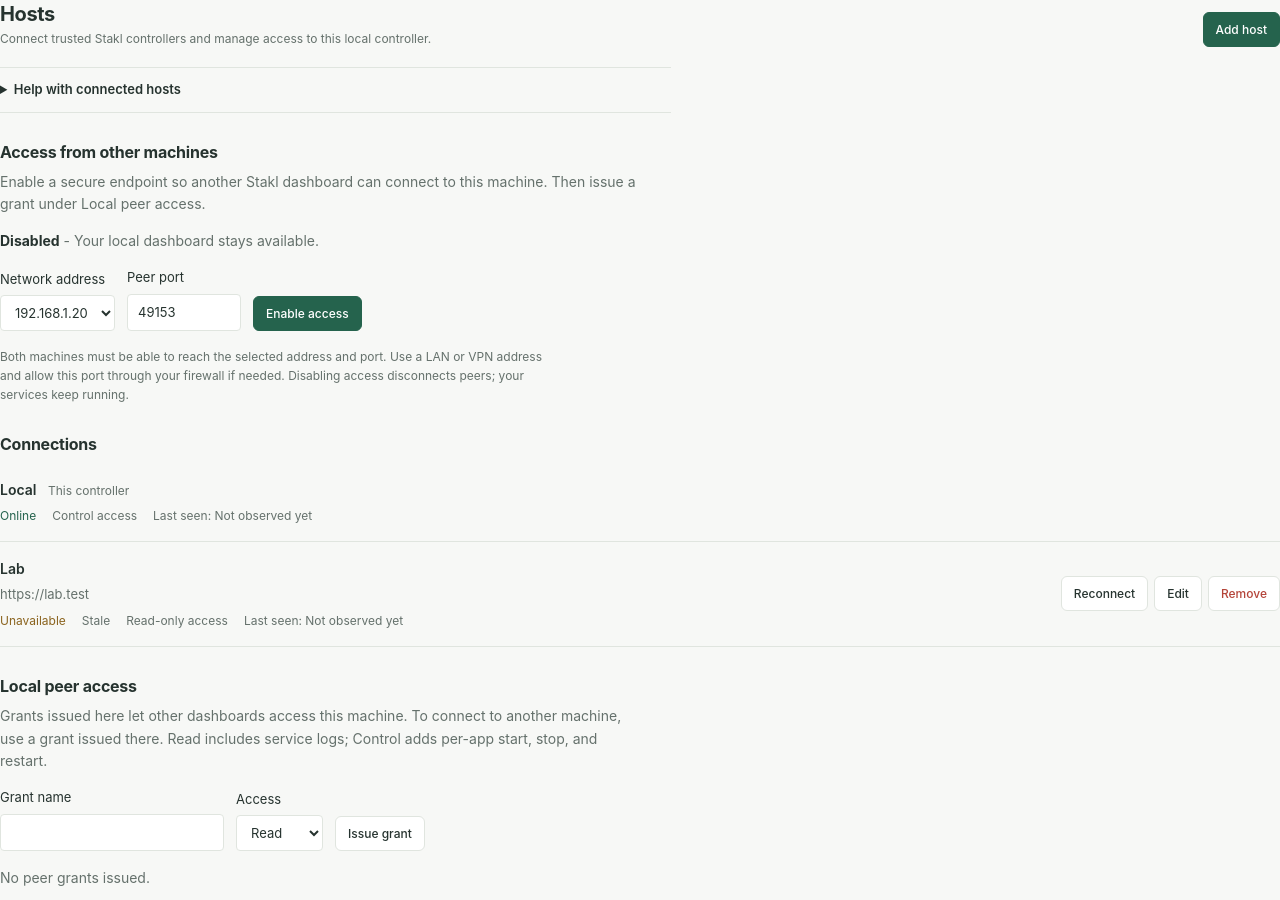
write-only connection credentials
Click the button with aria-label "Edit Lab" at (1178, 594), box [1154,576,1202,611]
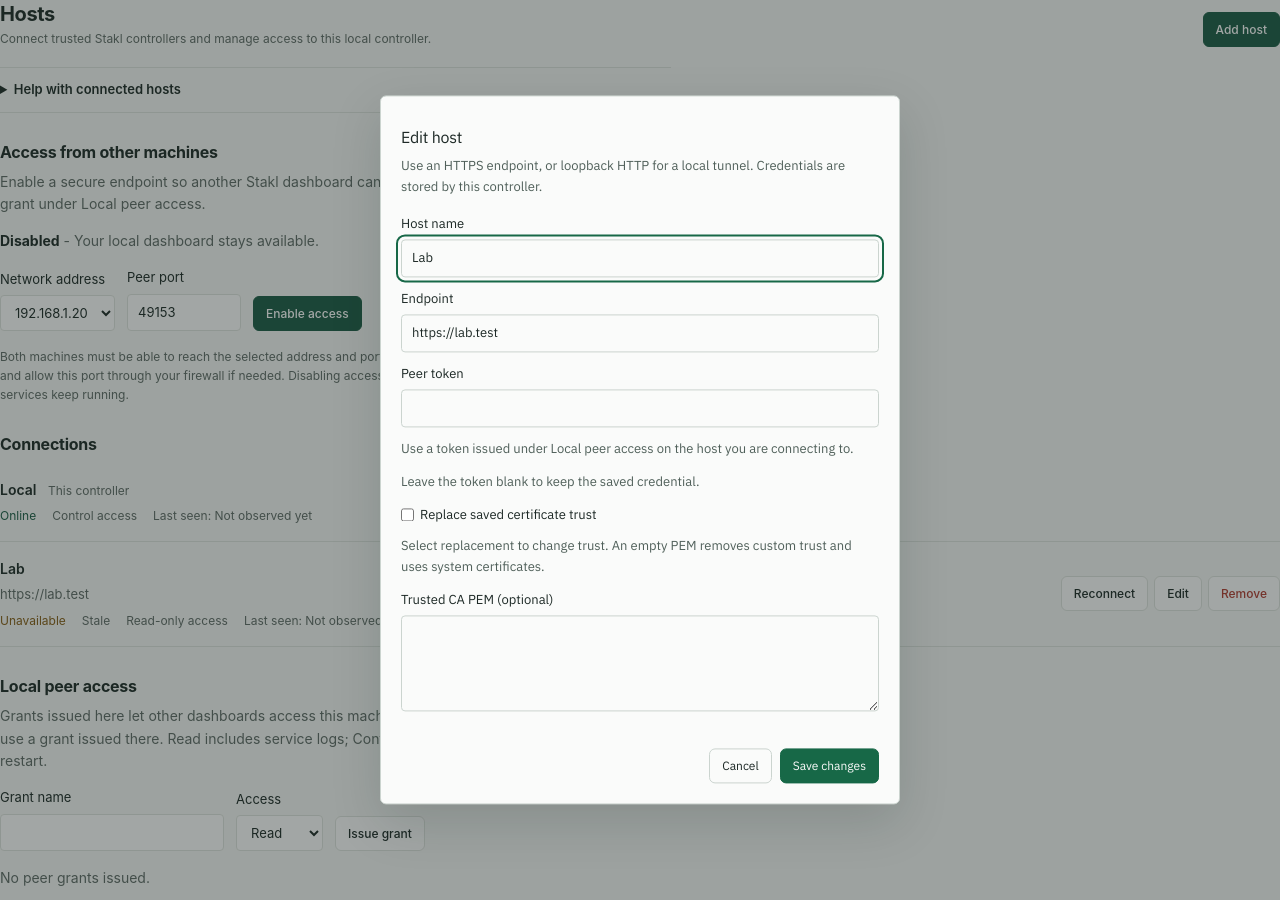
Expected: the password field labelled "Peer token" is empty, [401,390,879,427]
Now the text box labelled "Trusted CA PEM (optional)" is empty, box [401,616,879,712]
Replace the text in the field labelled "Host name" with "Renamed" at (640, 259), box [401,240,879,277]
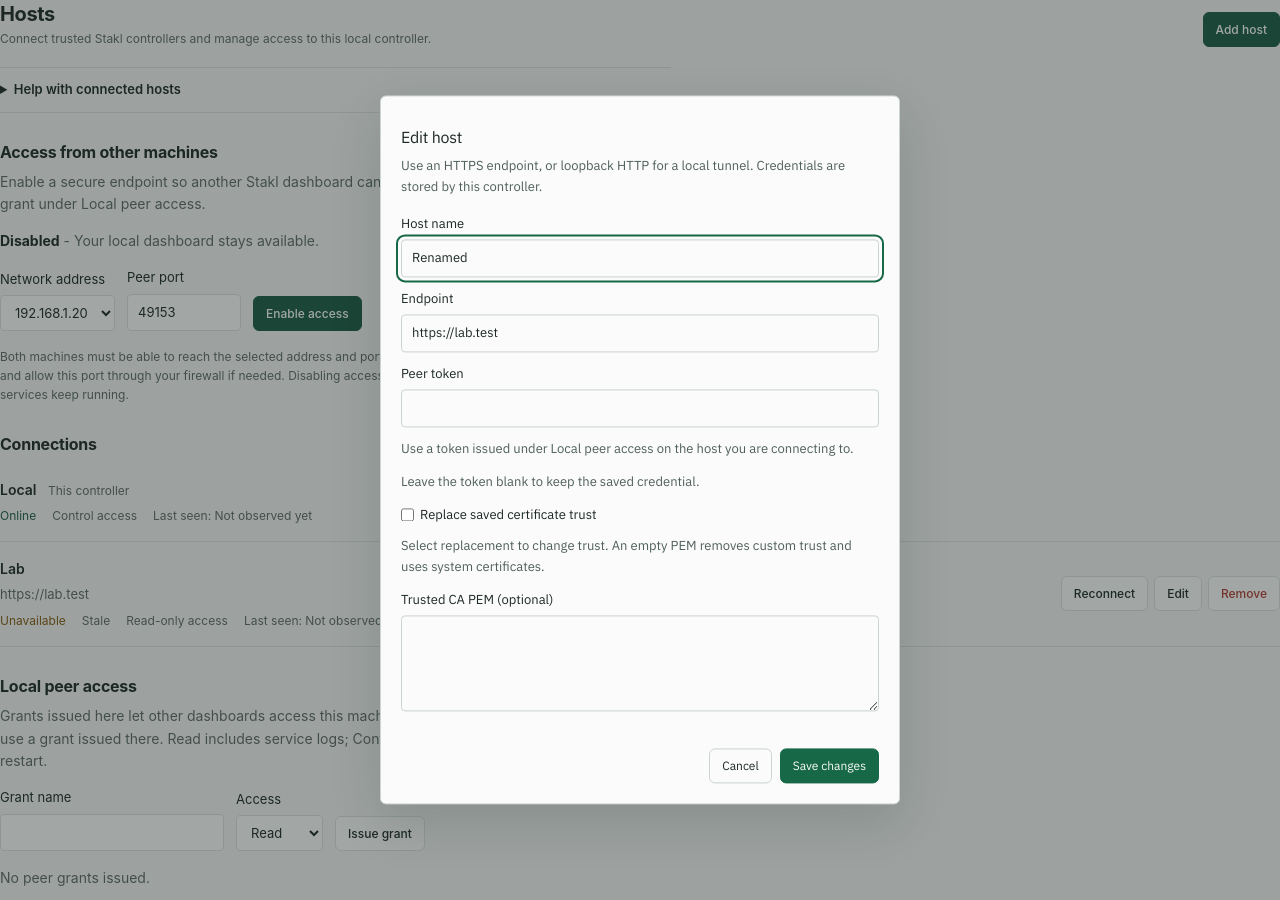
Click the button "Save changes" at (829, 766), box [780,749,879,784]
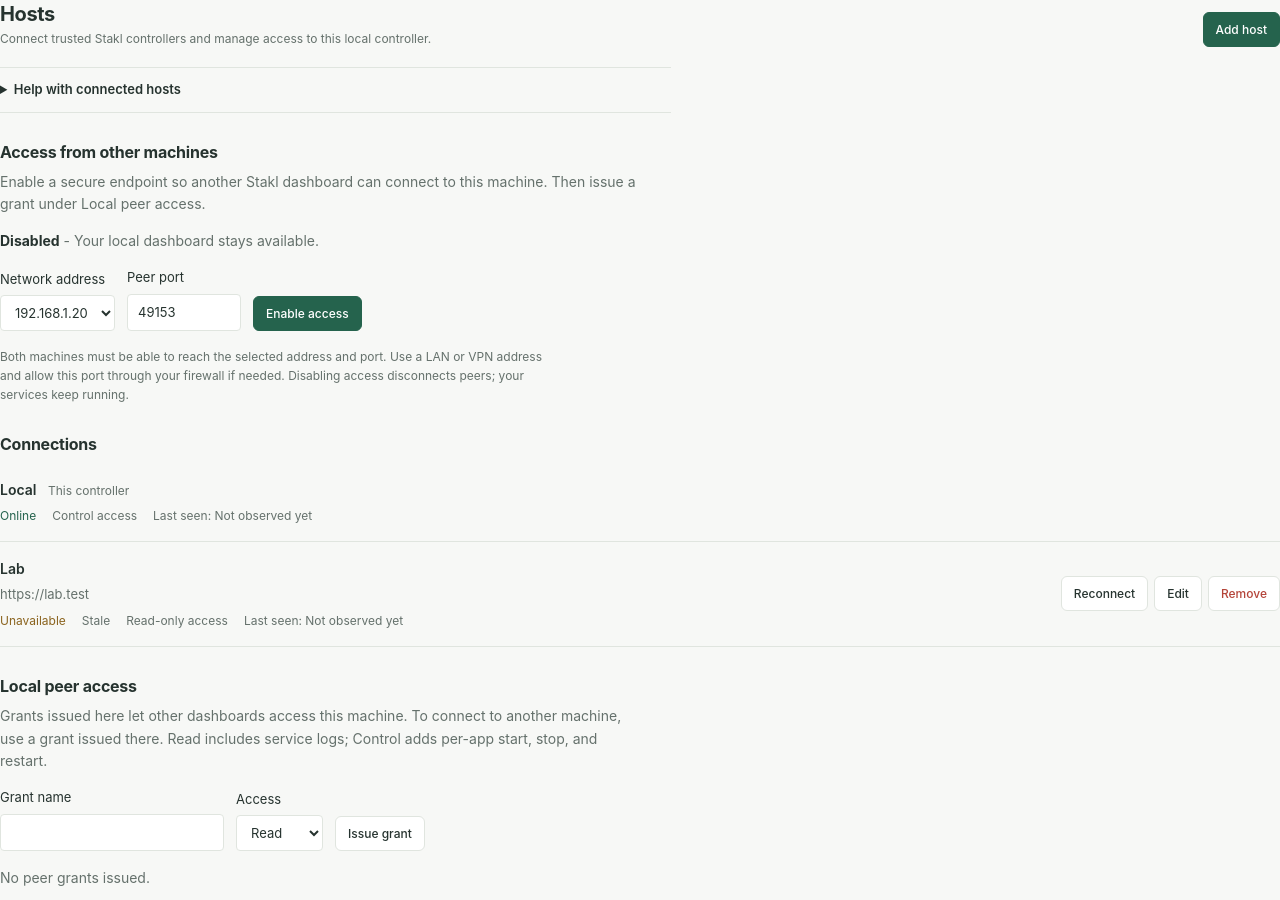
Now the label labelled "Peer token" is gone
